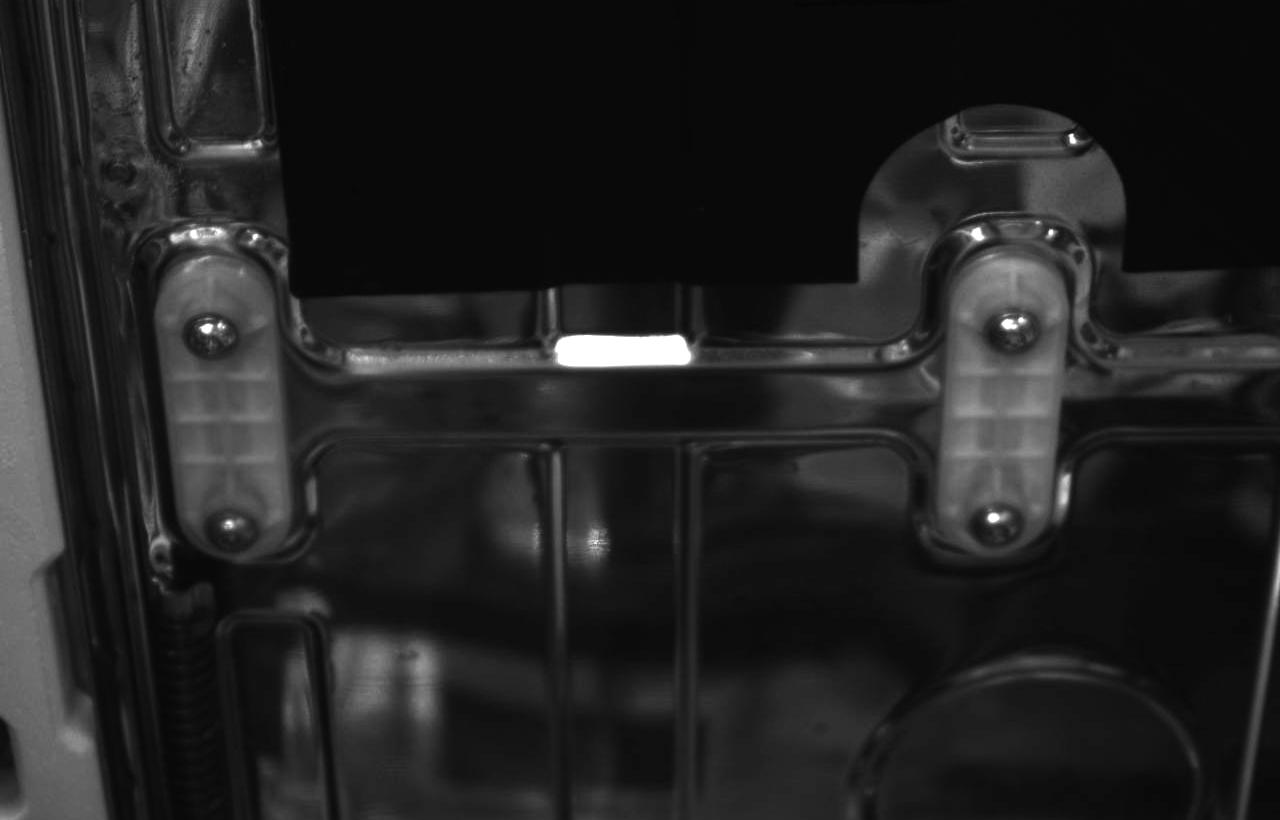vida-ok: (162, 297, 249, 375), (974, 296, 1062, 368), (183, 492, 261, 557), (963, 501, 1039, 560)
